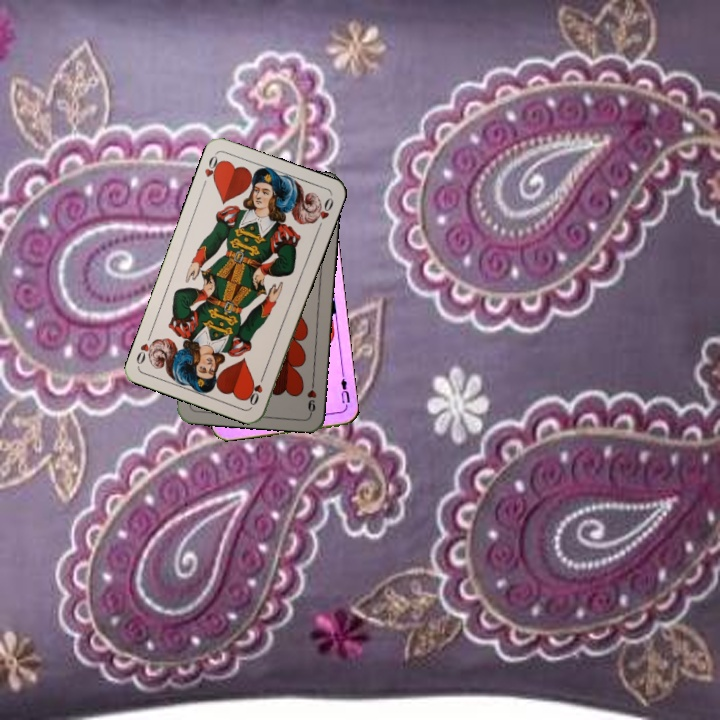EU: (337, 370, 352, 411)
H9: (303, 375, 319, 416)
HO: (200, 151, 225, 185), (246, 369, 267, 408)
